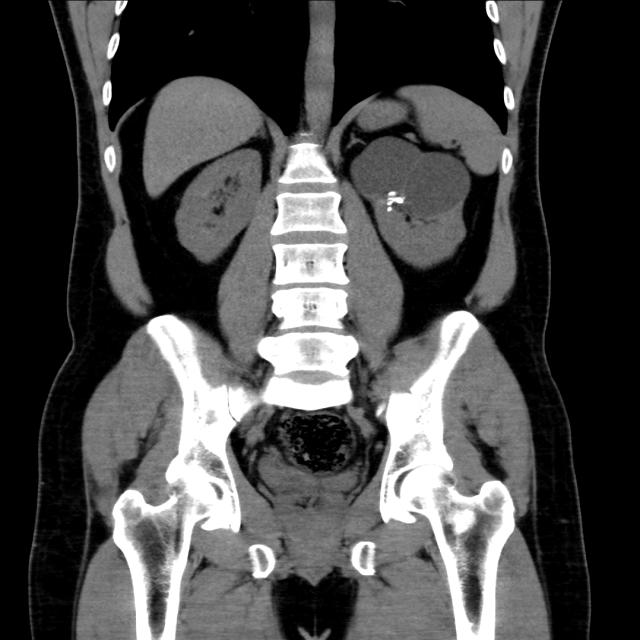kidneystone: (387, 191, 405, 211)
